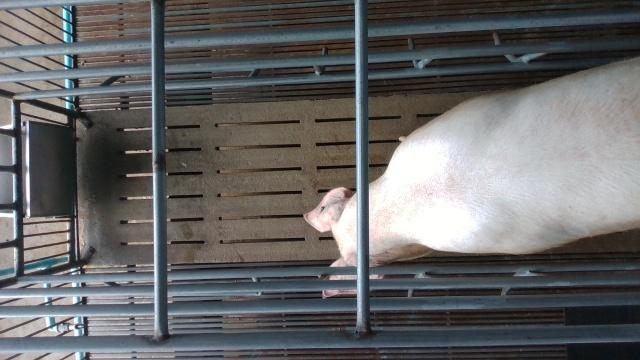sow-stand: (305, 54, 640, 298)
